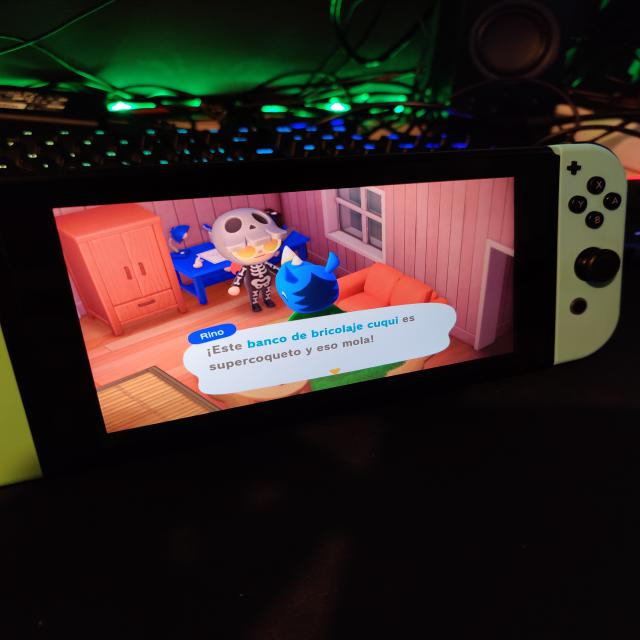text_bubble: (184, 303, 459, 397)
